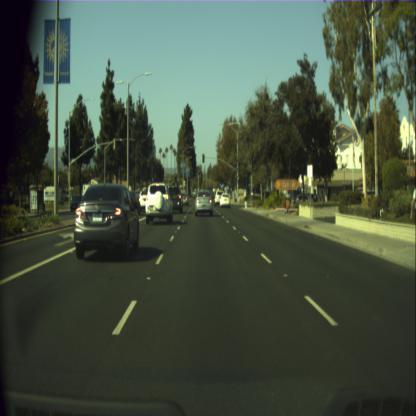Red: (174, 172, 177, 182)
off: (202, 154, 205, 162)
